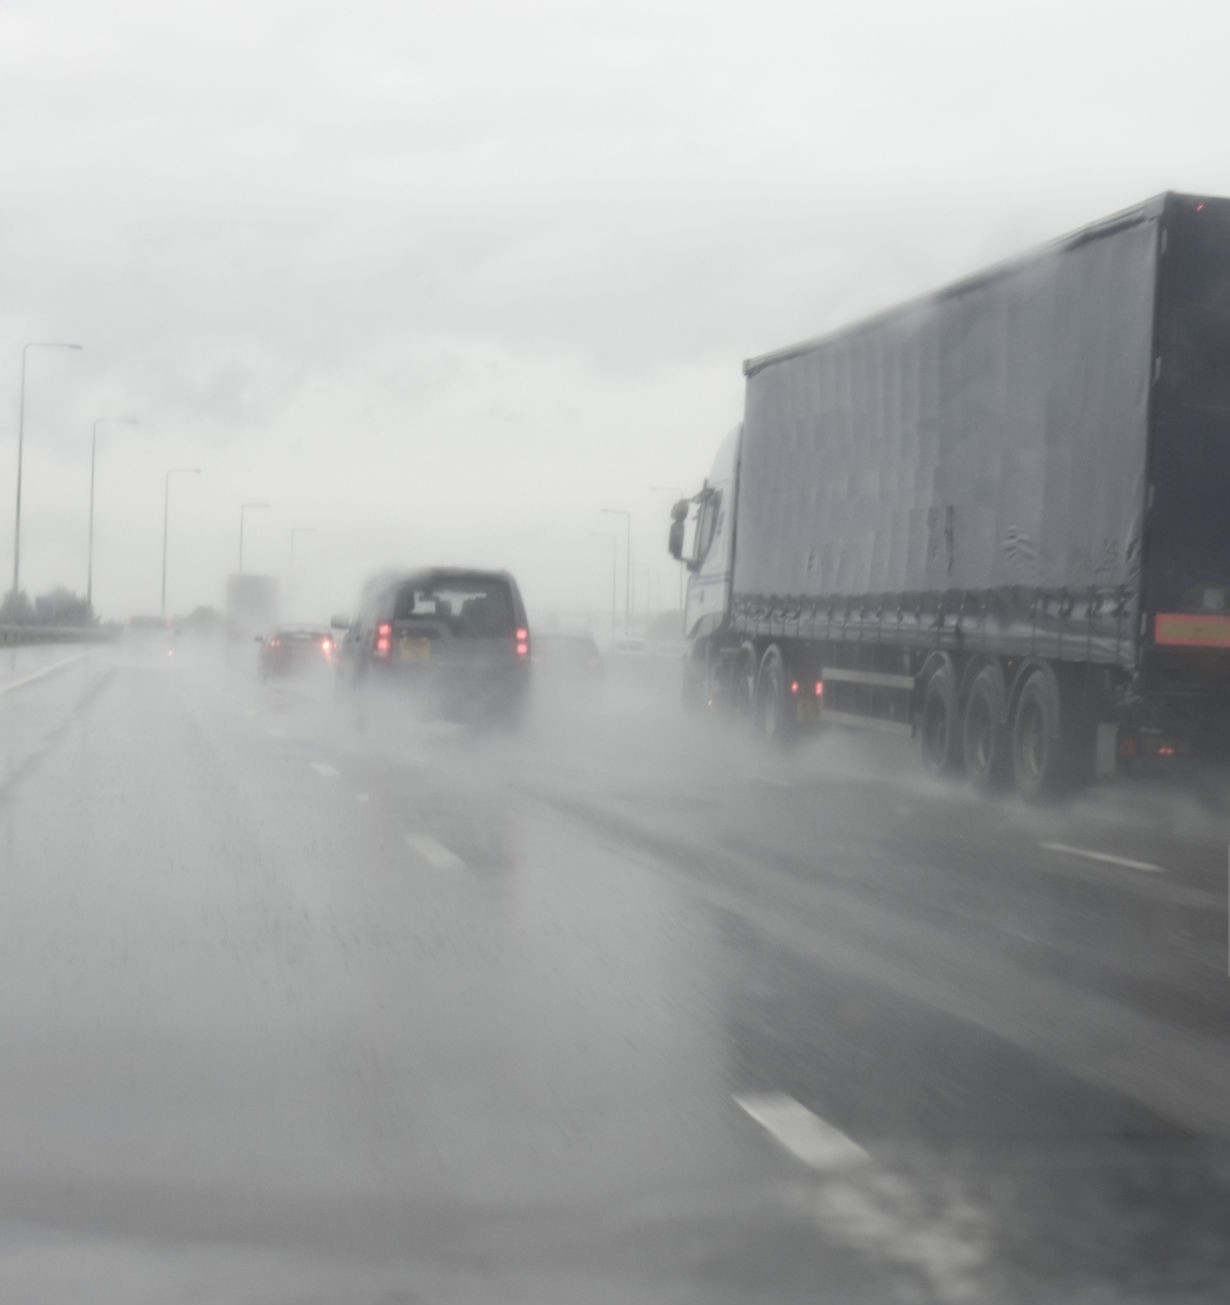car: (341, 569, 535, 731), (536, 625, 603, 715), (254, 622, 334, 689), (114, 613, 177, 670)
truck: (686, 185, 1229, 798), (228, 576, 279, 655)
